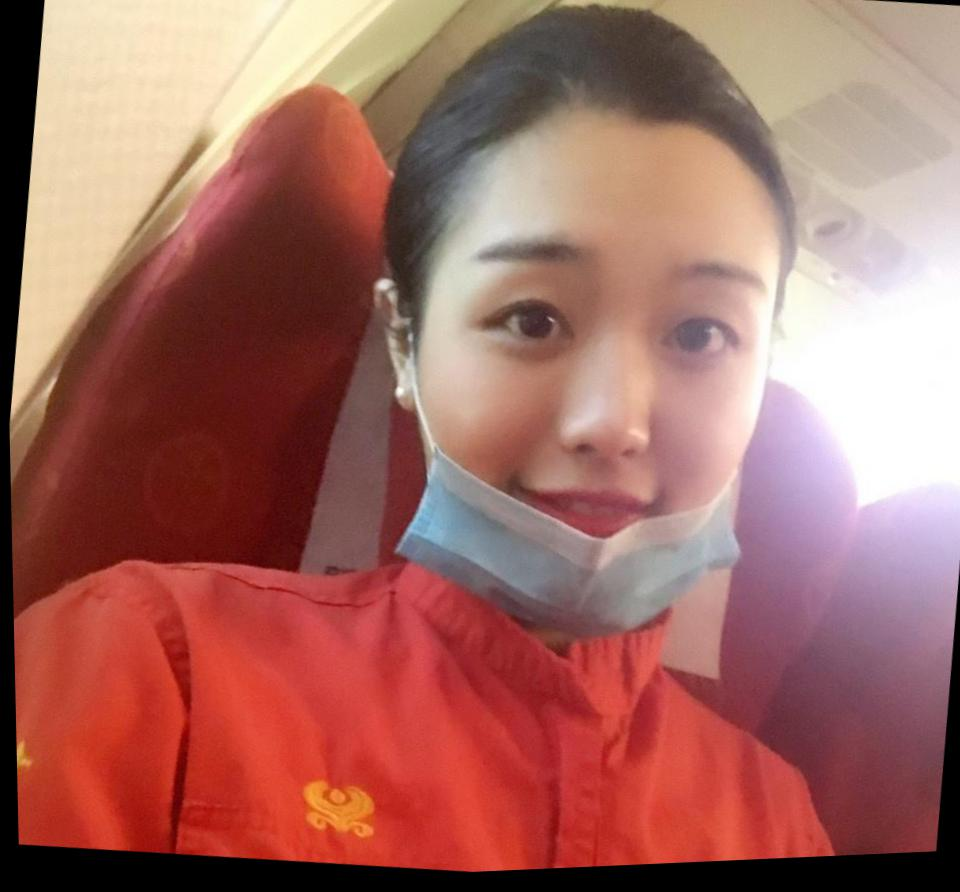WRONG: (398, 193, 784, 656)
